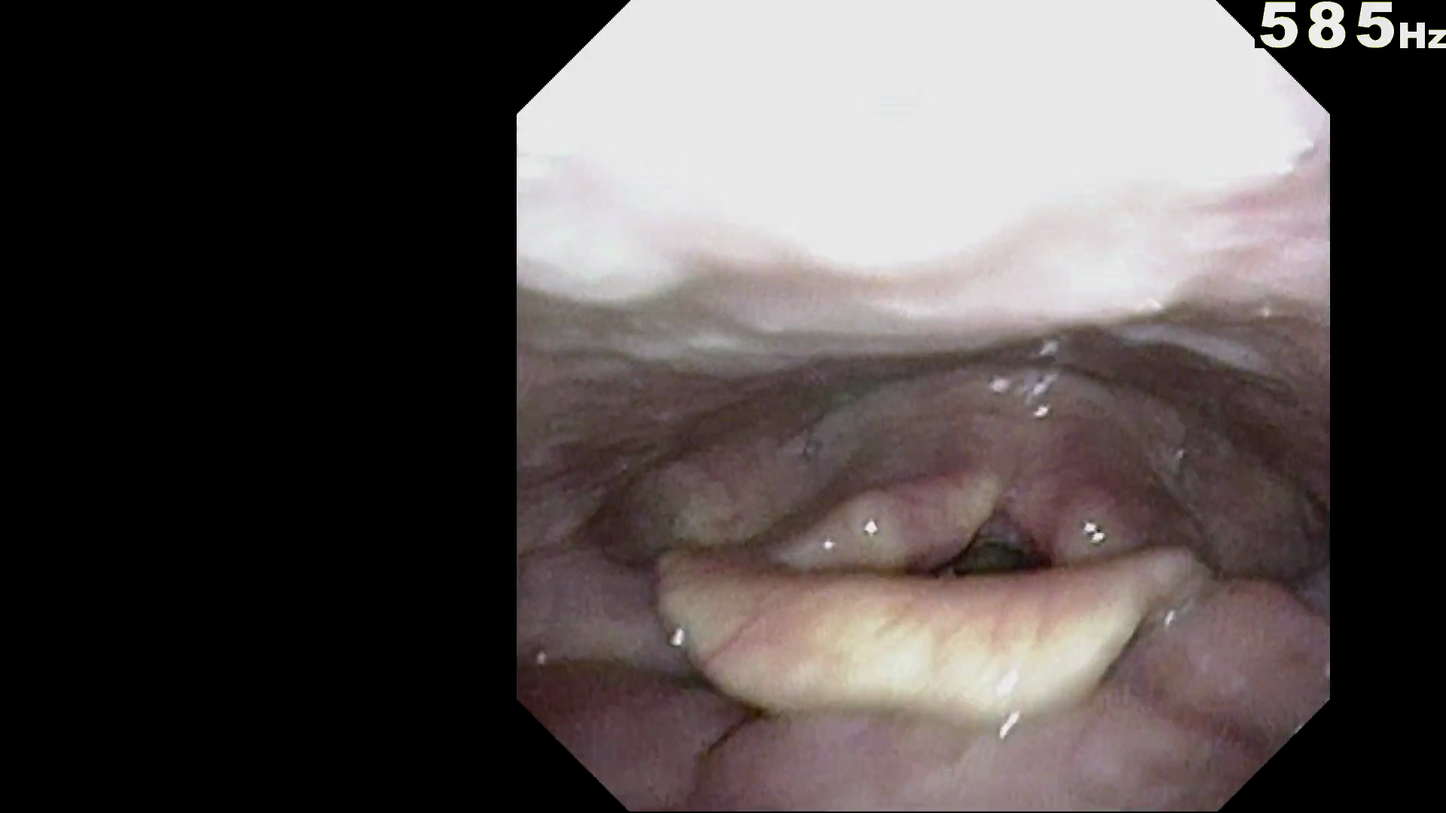epiglottis: (687, 543, 1229, 682)
trachea: (926, 533, 1054, 627)
